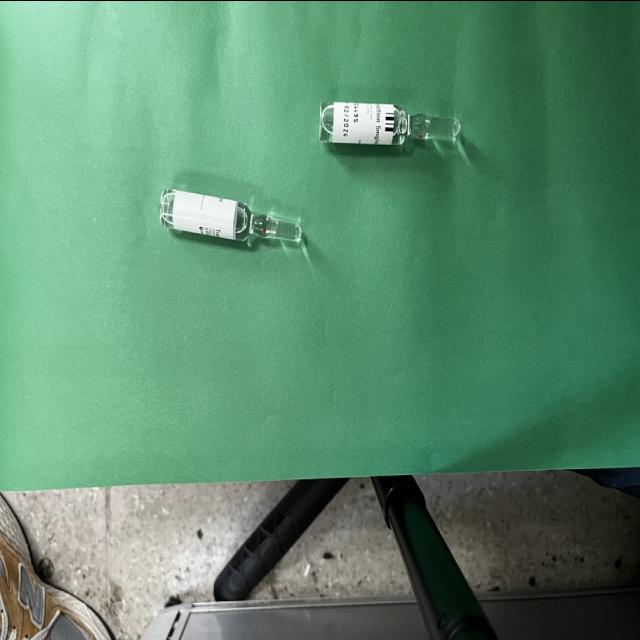Ampoules: (160, 190, 302, 243), (320, 101, 461, 145)
